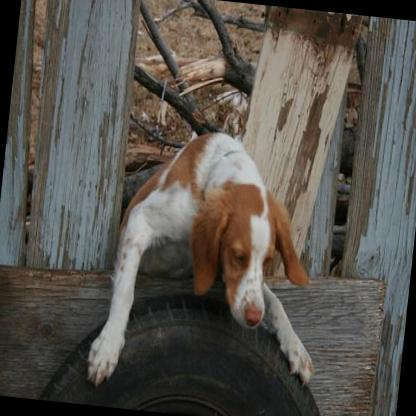Brittany_spaniel: (80, 117, 336, 410)
